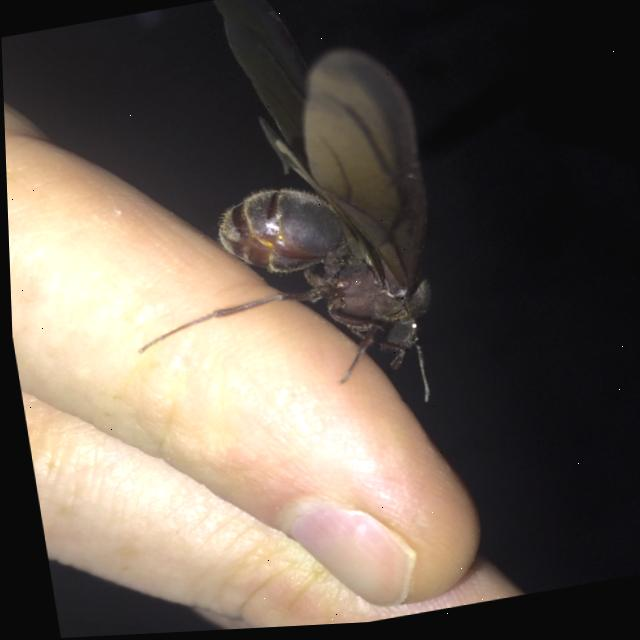Alive-Female-Alate: (82, 0, 458, 454)
